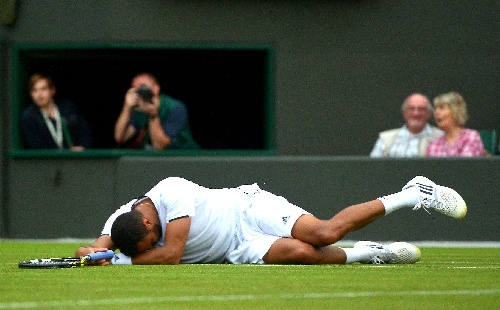fall: (76, 166, 459, 270)
